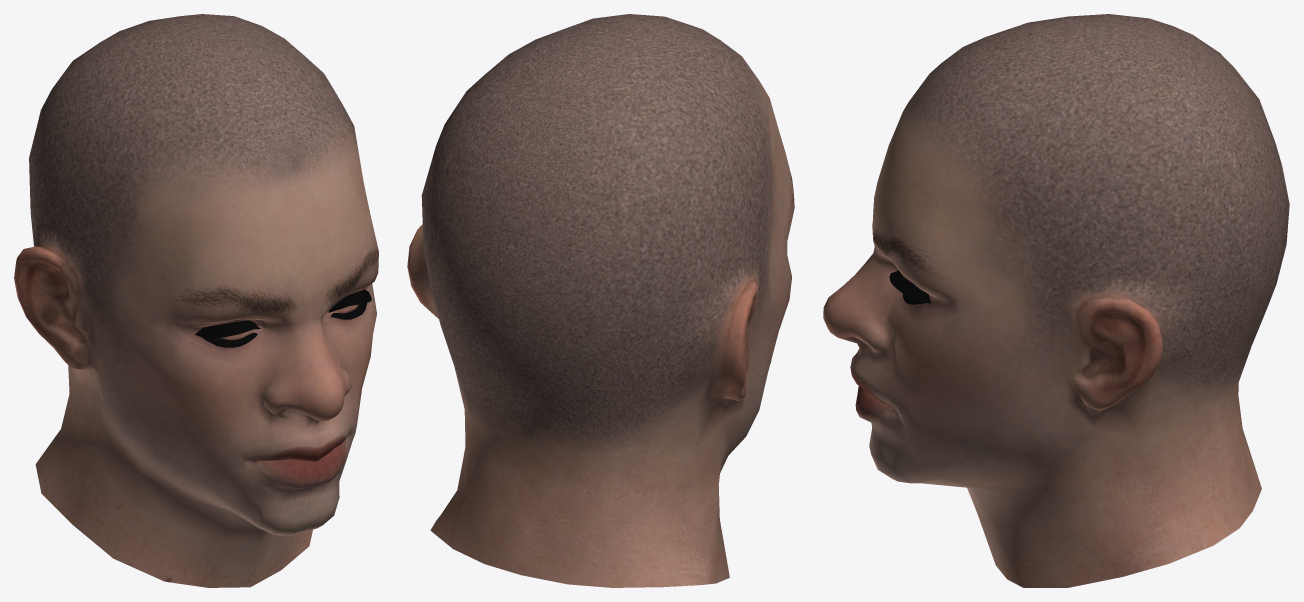
The model's file is SurvivorMale_Head_03_LOD0.glb.
3 views of the same model, side by side, from view 1: azimuth 30°, elevation 25°; view 2: azimuth 150°, elevation 25°; view 3: azimuth 270°, elevation 25° (orthographic). The views are drawn at different scales.
Visible parts, largest first — view 1: Hoodie; view 2: Hoodie; view 3: Hoodie.
Boxes of the visible parts, x1=… form: Hoodie: x1=14, y1=14, x2=378, y2=587; Hoodie: x1=407, y1=14, x2=794, y2=587; Hoodie: x1=823, y1=14, x2=1289, y2=587.
Size of the model in its own units: 0.1834 by 0.2889 by 0.2279.
1 material, 1 textured.
